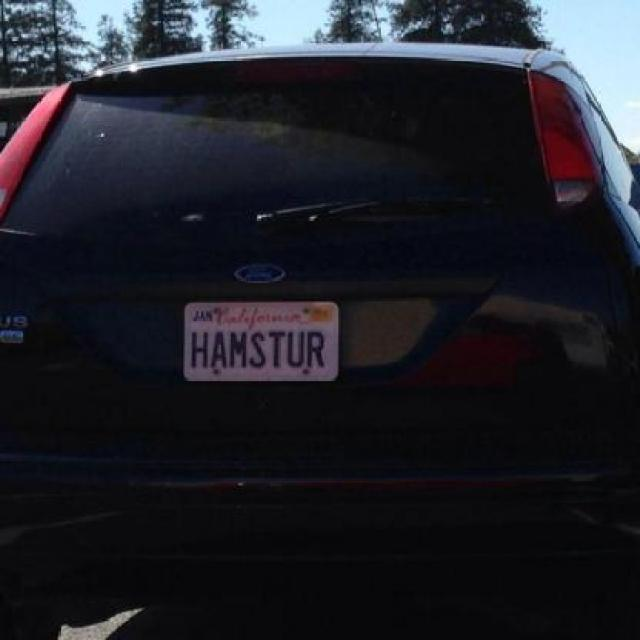License-Plates: (186, 302, 339, 380)
